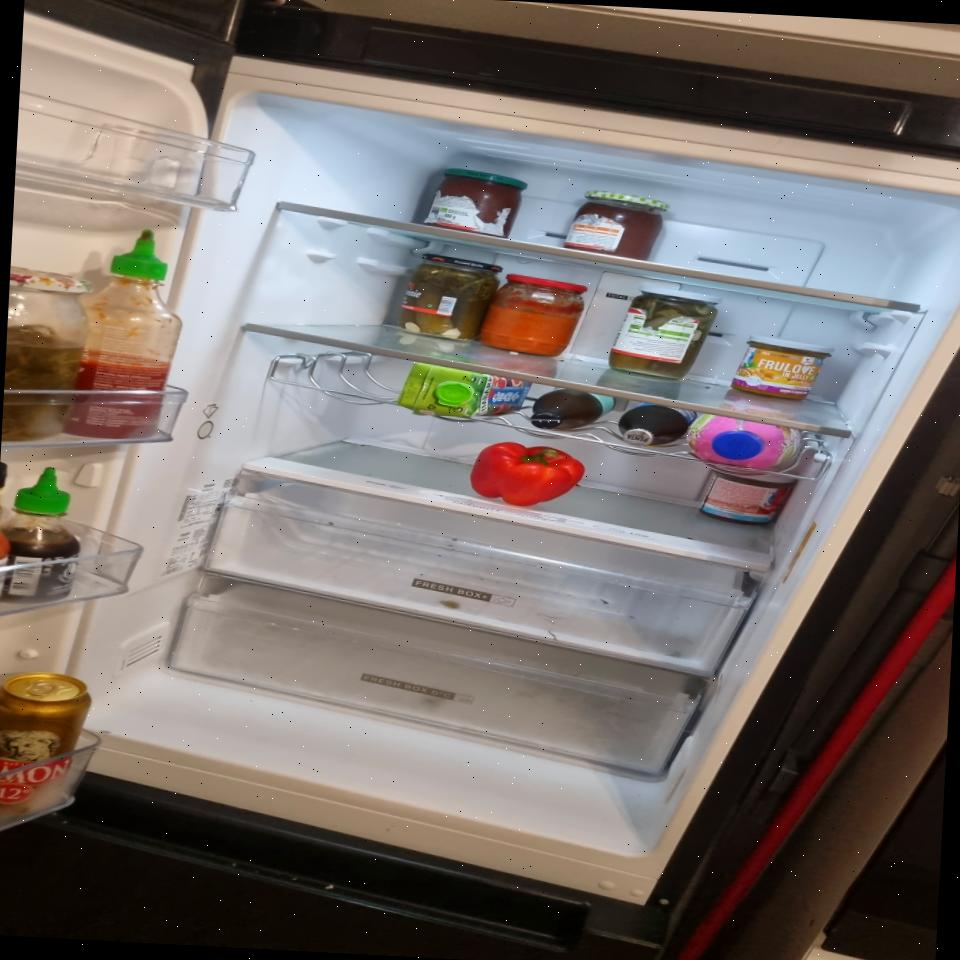bell pepper: (466, 439, 586, 510)
